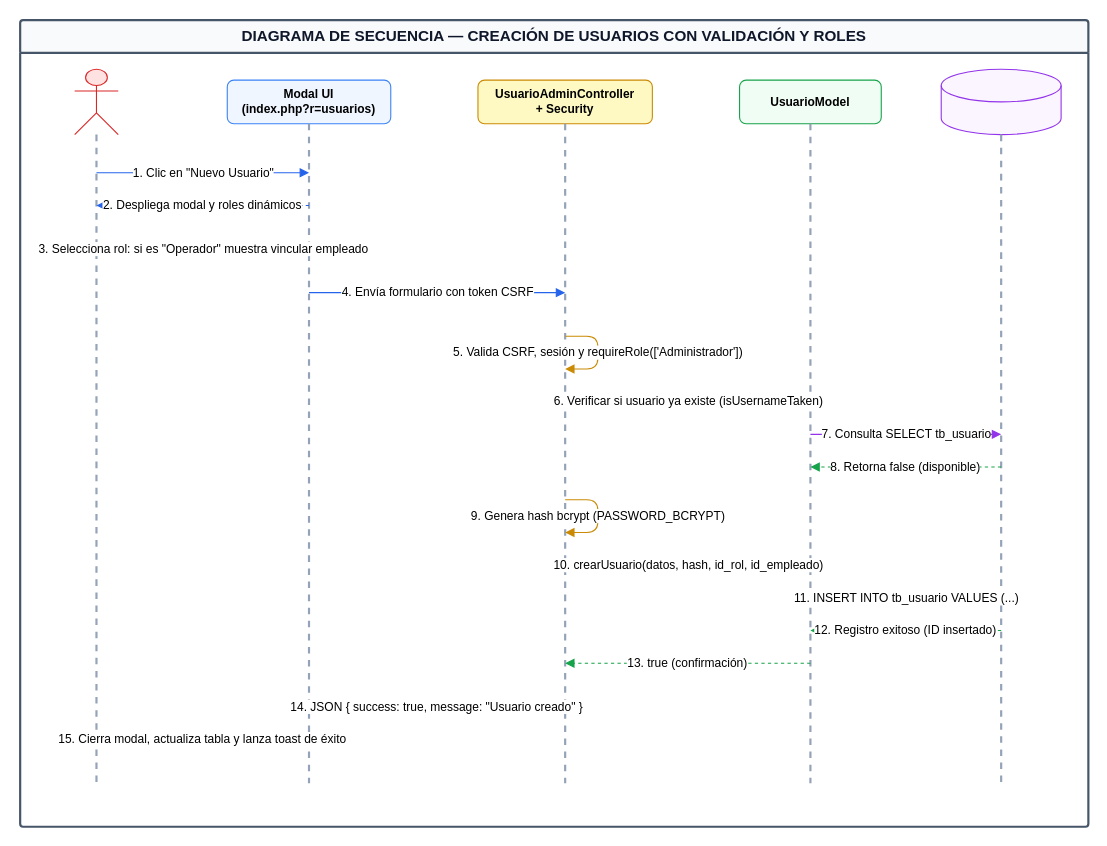
Image size: 1107x846. Some labels were removed from this diagram. The centre of each missing label's shape, as x and y in pixels:
Administrador: pixel 96 101
MySQL Database (tb_usuario): pixel 1000 101
